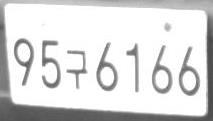1: (124, 42, 147, 92)
5: (41, 40, 61, 89)
6: (95, 42, 118, 91), (151, 43, 173, 94), (178, 46, 200, 96)
9: (13, 37, 34, 86)
구: (66, 49, 88, 89)
